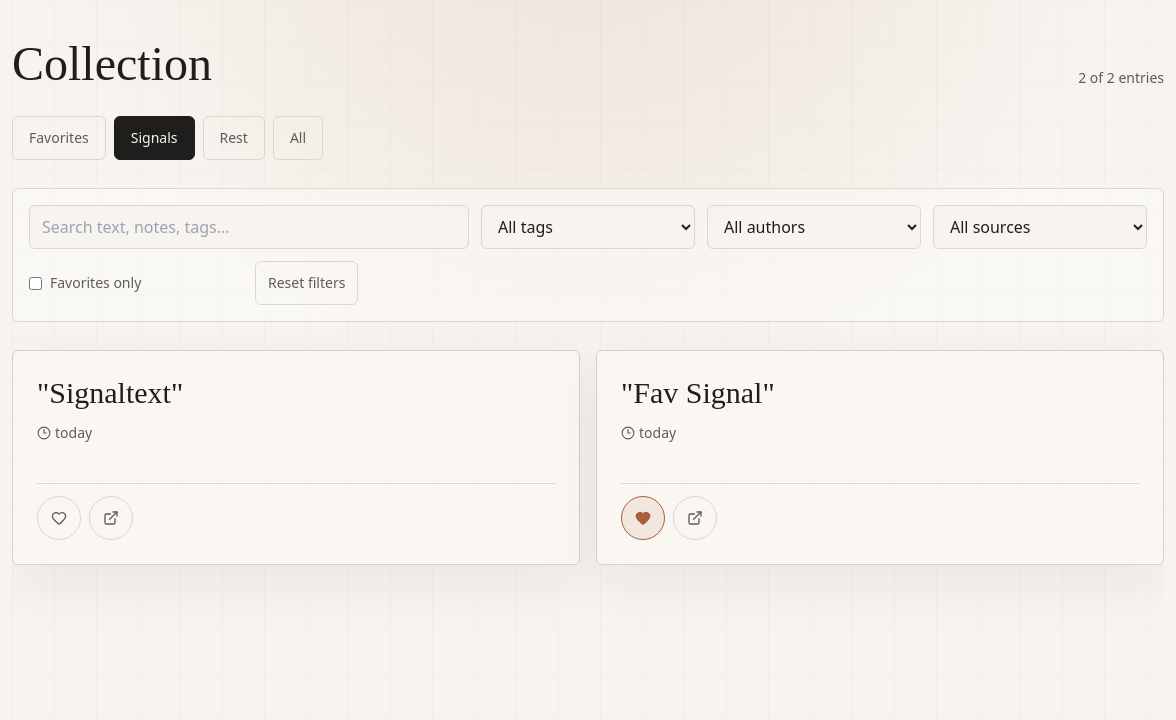
Test case: LibraryPage › lists favourite signals and rest entries, but never noise, under the Favoriten tab
Click the button "Favorites" at (59, 138), box [12, 116, 106, 160]
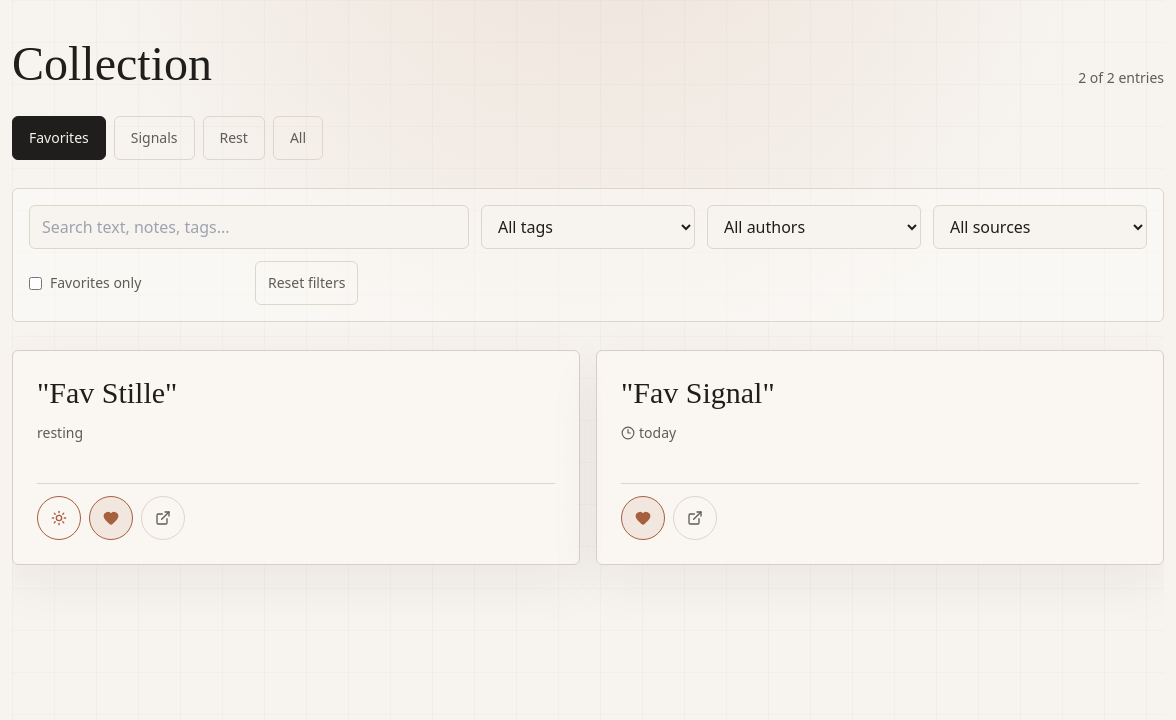
Expected: the text "\"Fav Signal\"" is shown, [621, 376, 775, 409]
Expected: the text "\"Fav Stille\"" is shown, [37, 376, 177, 409]
Expected: the text "\"Signaltext\"" is gone
